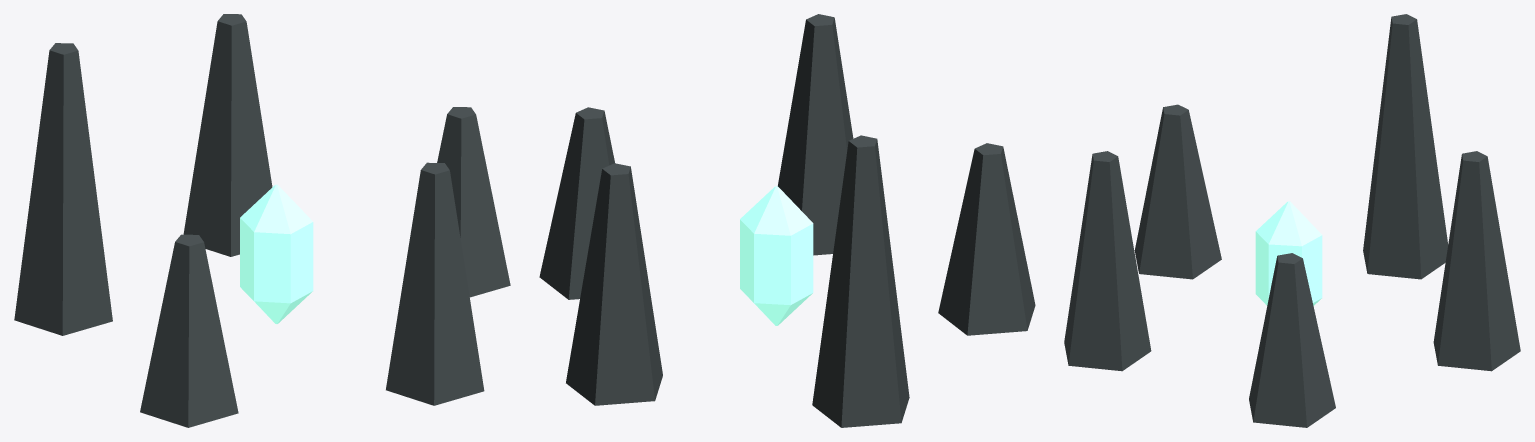
Rendered from PRP_11_Rift.glb.
3 views of the same model, side by side, from view 1: azimuth 30°, elevation 25°; view 2: azimuth 150°, elevation 25°; view 3: azimuth 270°, elevation 25° (orthographic). The views are drawn at different scales.
Parts seen in each view (by area): view 1: PRP_11_Rift; view 2: PRP_11_Rift; view 3: PRP_11_Rift.
Part boxes in pixels (left/top/right/bottom): PRP_11_Rift: left=14, top=14, right=510, bottom=427; PRP_11_Rift: left=539, top=14, right=1035, bottom=427; PRP_11_Rift: left=1064, top=14, right=1520, bottom=427.
Size of the model in its own units: 1.59 by 0.96 by 1.65.
